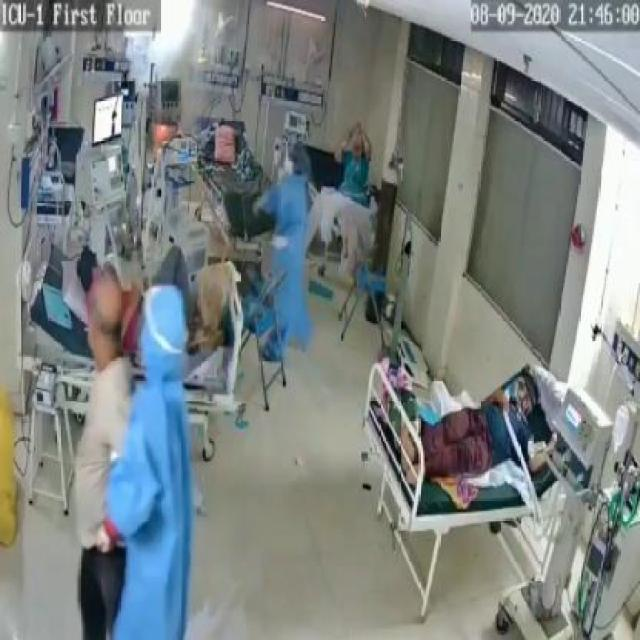smoke: (130, 20, 196, 82), (151, 121, 171, 150)
